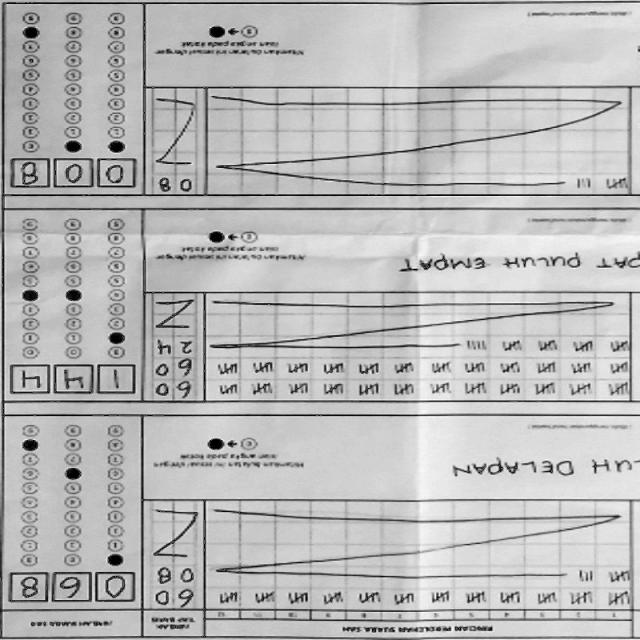Suara: (11, 156, 147, 195), (7, 361, 142, 400), (8, 572, 144, 610)
